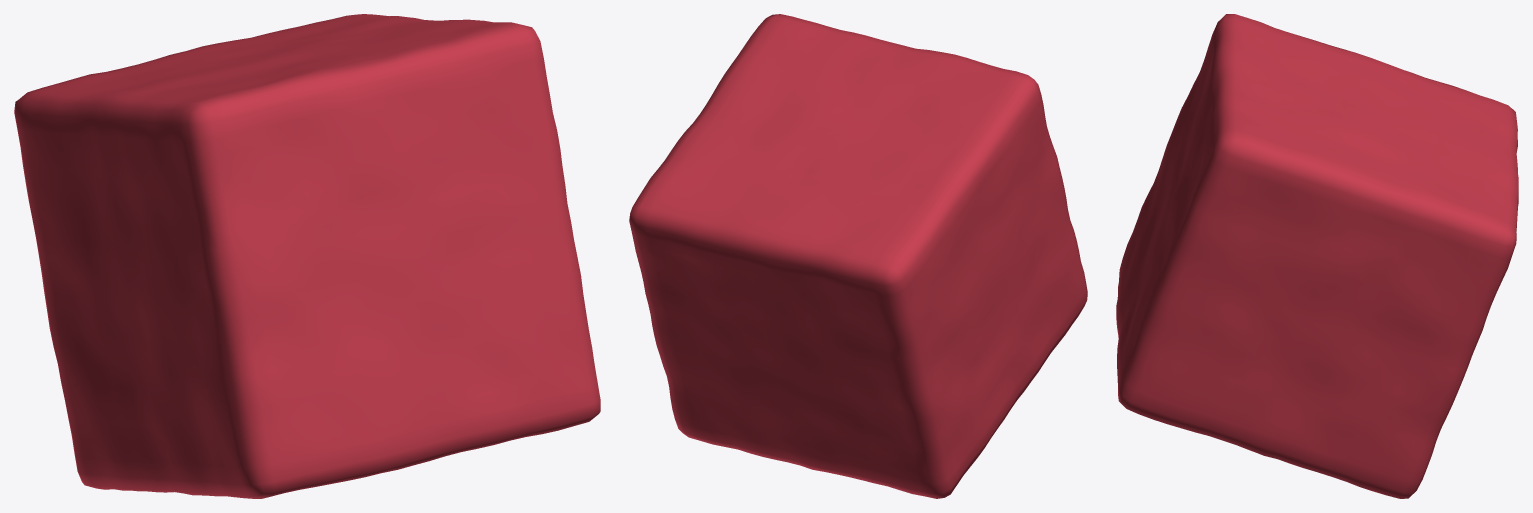
File: jelly_red.glb
3 renders of one model, left to right at view 1: azimuth 30°, elevation 25°; view 2: azimuth 150°, elevation 25°; view 3: azimuth 270°, elevation 25°, orthographic. The views are drawn at different scales.
Parts seen in each view (by area): view 1: jelly_red; view 2: jelly_red; view 3: jelly_red.
Part boxes in pixels (x1,y1,x2,y2): jelly_red: [14, 14, 600, 498]; jelly_red: [629, 14, 1087, 498]; jelly_red: [1116, 14, 1518, 498].
Bounding box in the file's own units: 0.5941 × 0.7355 × 0.7359.
